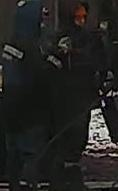gloves: (48, 36, 72, 69)
helmet: (73, 6, 89, 20)
vest: (2, 41, 49, 133), (58, 31, 99, 105)
